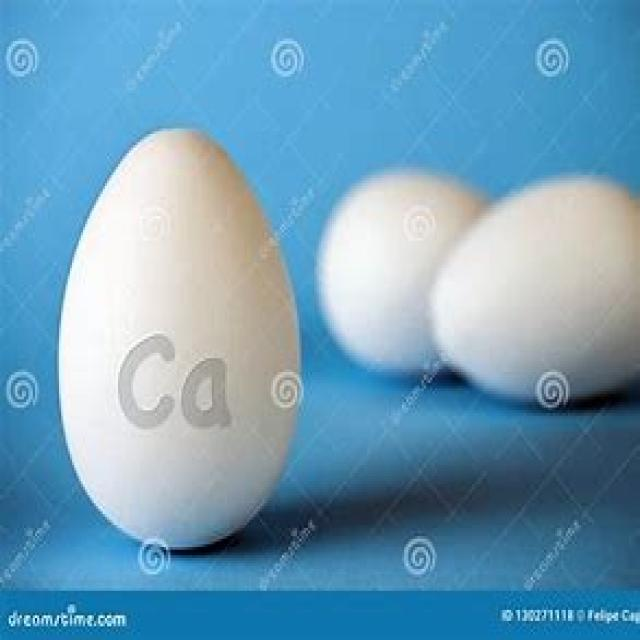White Egg: (56, 117, 311, 565)
